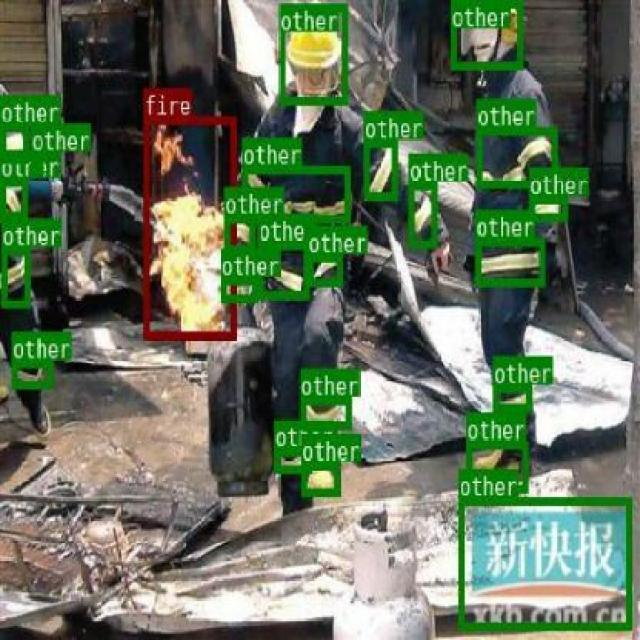Fire: (142, 116, 236, 338)
